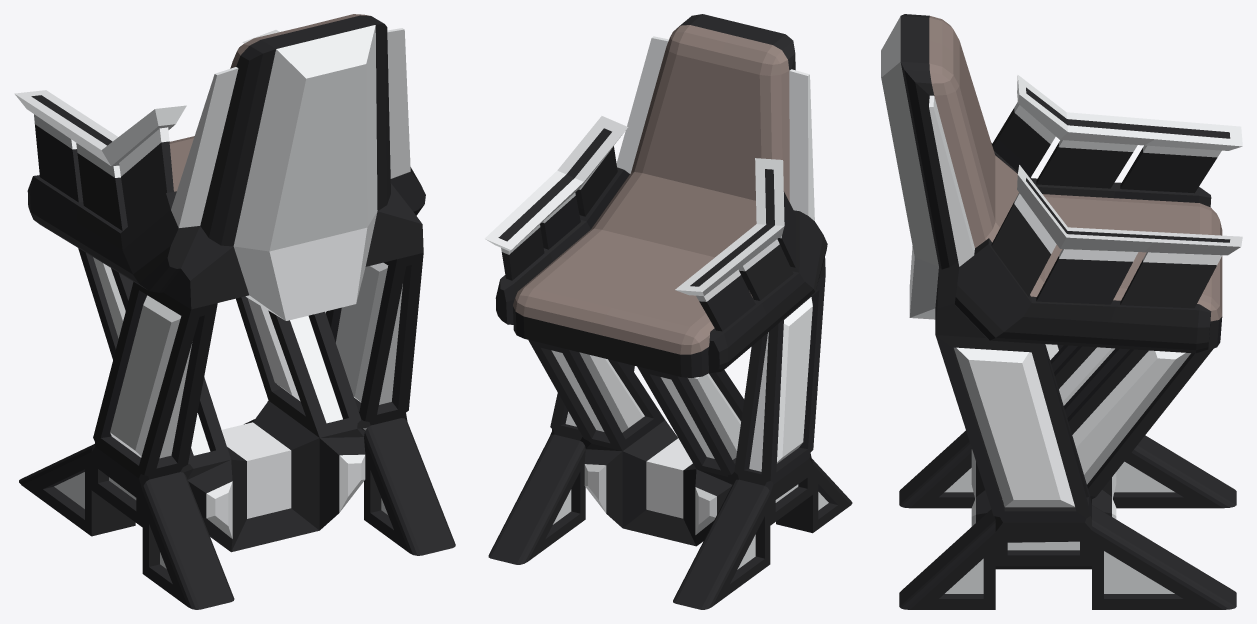
File: control_console_chair.glb
The picture shows the model from 3 angles, left to right: view 1: azimuth 30°, elevation 25°; view 2: azimuth 150°, elevation 25°; view 3: azimuth 270°, elevation 25°; orthographic projection. The views are drawn at different scales.
Parts seen in each view (by area): view 1: ControlConsoleChair_Body; view 2: ControlConsoleChair_Body; view 3: ControlConsoleChair_Body.
Part boxes in pixels (x1,y1,x2,y2): ControlConsoleChair_Body: (14, 14, 455, 609); ControlConsoleChair_Body: (484, 14, 852, 609); ControlConsoleChair_Body: (881, 14, 1242, 609).
Size of the model in its own units: 0.6239 by 1.17 by 0.751.
1 material, 1 textured.
